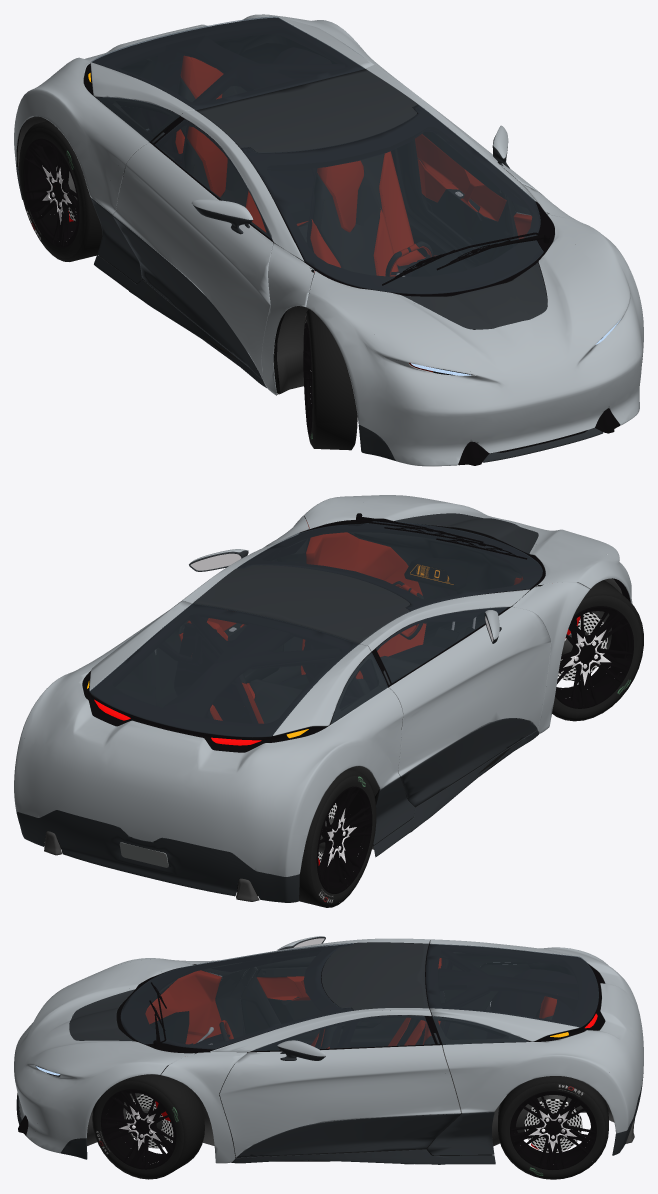
Rendered from automovil-detallado-v7.glb.
3 views of the same model, one above another, from view 1: azimuth 30°, elevation 25°; view 2: azimuth 150°, elevation 25°; view 3: azimuth 270°, elevation 25° (orthographic). The views are drawn at different scales.
Visible parts, largest first — view 1: BodyHood, BodyWindshield, BodyDoorRColor1, BodyRearwindow, BodyRearPanelsColor1, BodyRoofPanel, BodyWindshieldGasket, InteriorSeatsColor1, BodyPillars, InteriorSeatsColor2, InteriorPillar, BodyPanelsColor2 (+22 smaller); view 2: BodyRearPanelsColor1, BodyRearwindow, BodyDoorRColor1, BodyWindshield, BodyPanelsColor2, BodyRoofPanel, BodyHood, InteriorRearHatch, BodyPillars, InteriorPillar, WheelFrontRRim, BodyWindshieldGasket (+21 smaller); view 3: BodyDoorLColor1, BodyRearPanelsColor1, BodyWindshield, BodyHood, BodyRearwindow, BodyPillars, BodyRoofPanel, BodyDoorLColor2, BodyPanelsColor2, BodyWindshieldGasket, Mesh_89, WheelRearLRim (+24 smaller).
Part boxes in pixels (x1,y1,x2,y2): BodyHood: (306, 214, 643, 466); BodyWindshield: (240, 105, 543, 293); BodyDoorRColor1: (113, 142, 273, 378); BodyRearwindow: (91, 16, 364, 110); BodyRearPanelsColor1: (14, 14, 403, 214); BodyRoofPanel: (196, 69, 417, 152); BodyWindshieldGasket: (241, 106, 554, 296); InteriorSeatsColor1: (175, 55, 435, 276); BodyPillars: (180, 65, 585, 395); InteriorSeatsColor2: (178, 78, 408, 275); InteriorPillar: (140, 35, 423, 178); BodyPanelsColor2: (16, 128, 642, 462); BodyRearPanelsColor1: (14, 600, 403, 876); BodyRearwindow: (89, 603, 358, 737); BodyDoorRColor1: (389, 607, 550, 776); BodyWindshield: (237, 521, 542, 610); BodyPanelsColor2: (16, 730, 538, 902); BodyRoofPanel: (193, 565, 410, 644); BodyHood: (303, 495, 632, 603); InteriorRearHatch: (90, 604, 369, 741); BodyPillars: (182, 516, 589, 733); InteriorPillar: (163, 605, 406, 717); WheelFrontRRim: (555, 606, 633, 708); BodyWindshieldGasket: (238, 521, 545, 611); BodyDoorLColor1: (219, 1045, 460, 1157); BodyRearPanelsColor1: (430, 939, 643, 1133); BodyWindshield: (120, 943, 353, 1049); BodyHood: (14, 958, 194, 1153); BodyRearwindow: (426, 943, 598, 1027); BodyPillars: (161, 938, 431, 1163); BodyRoofPanel: (321, 942, 428, 1010); BodyDoorLColor2: (237, 1113, 460, 1157); BodyPanelsColor2: (16, 1073, 643, 1164); BodyWindshieldGasket: (117, 944, 352, 1053); Mesh_89: (92, 1072, 204, 1179); WheelRearLRim: (510, 1091, 596, 1169).
Size of the model in its own units: 2.15 by 1.17 by 4.45.
Materials: 23 (5 with a texture image).
